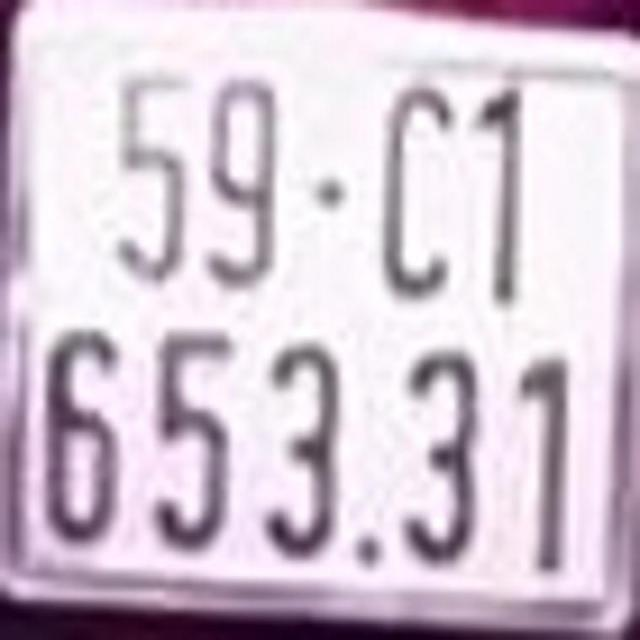1: (512, 335, 589, 584), (471, 84, 537, 311)
3: (263, 331, 346, 568), (402, 341, 482, 564)
5: (142, 324, 237, 558), (113, 63, 190, 286)
6: (42, 321, 121, 545)
9: (200, 74, 284, 288)
C: (375, 83, 461, 295)
